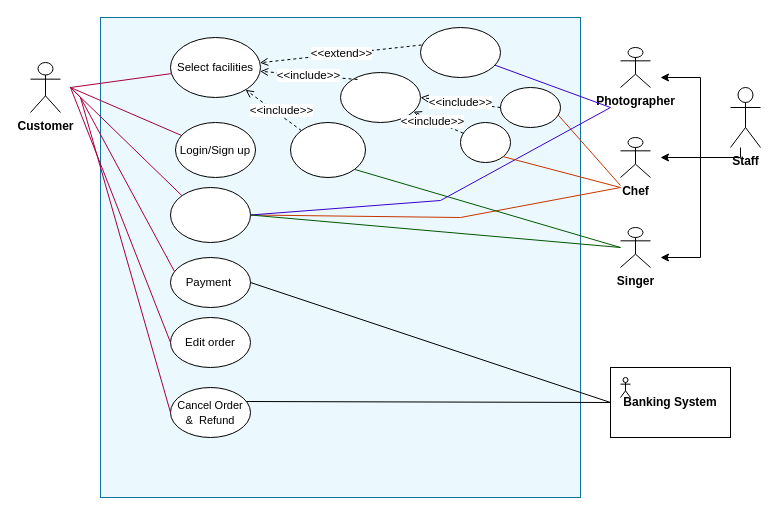
The diagram is 778 pixels wide and 515 high, and some of its shapes have lost their labels. Each missing label, with the box of its shape:
Dessert: (460, 122, 510, 162)
Main course: (500, 86, 560, 128)
Meals: (340, 72, 420, 122)
Music band: (290, 122, 366, 178)
Photography: (420, 26, 500, 78)
Submit order: (170, 186, 250, 242)
